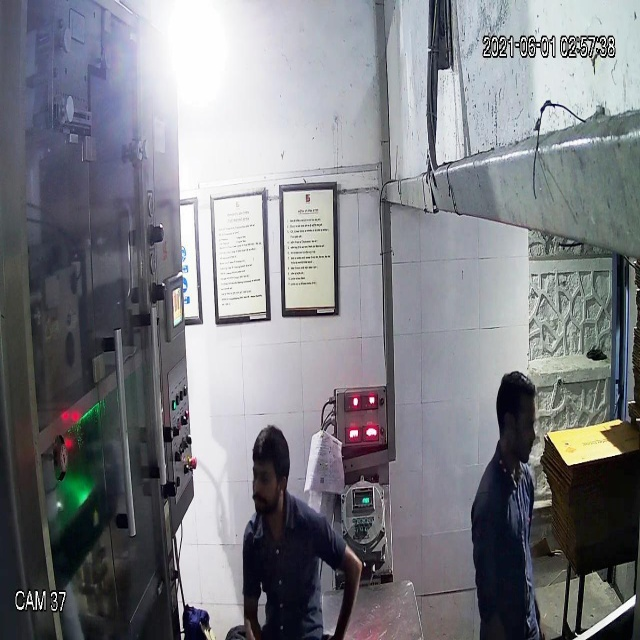Sin_gafas: (246, 462, 288, 492)
